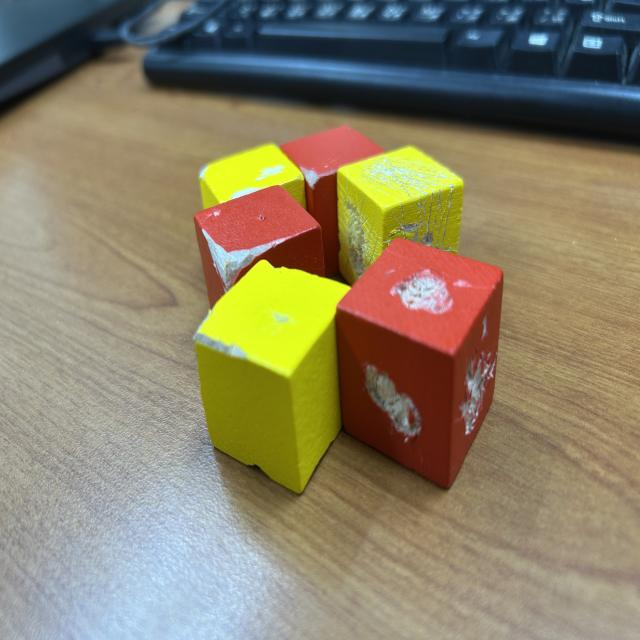broken: (336, 237, 504, 491), (192, 258, 356, 497), (194, 184, 328, 356), (337, 144, 464, 296), (280, 124, 386, 278), (198, 142, 310, 286)
